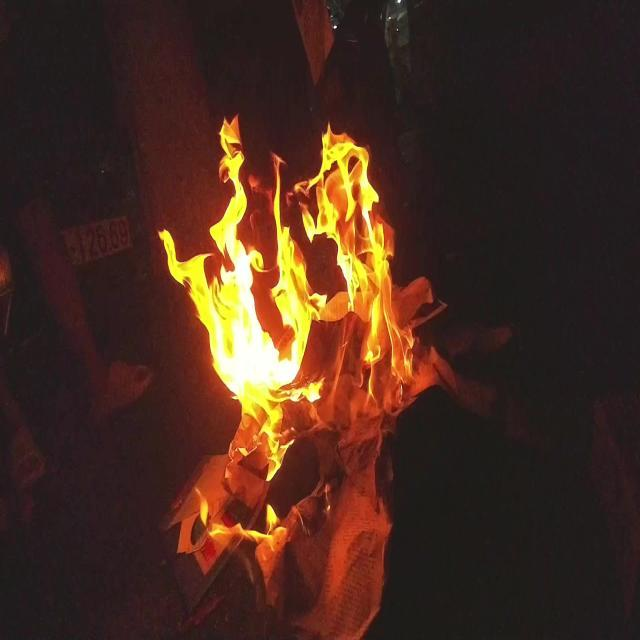Fire: (158, 113, 416, 546)
